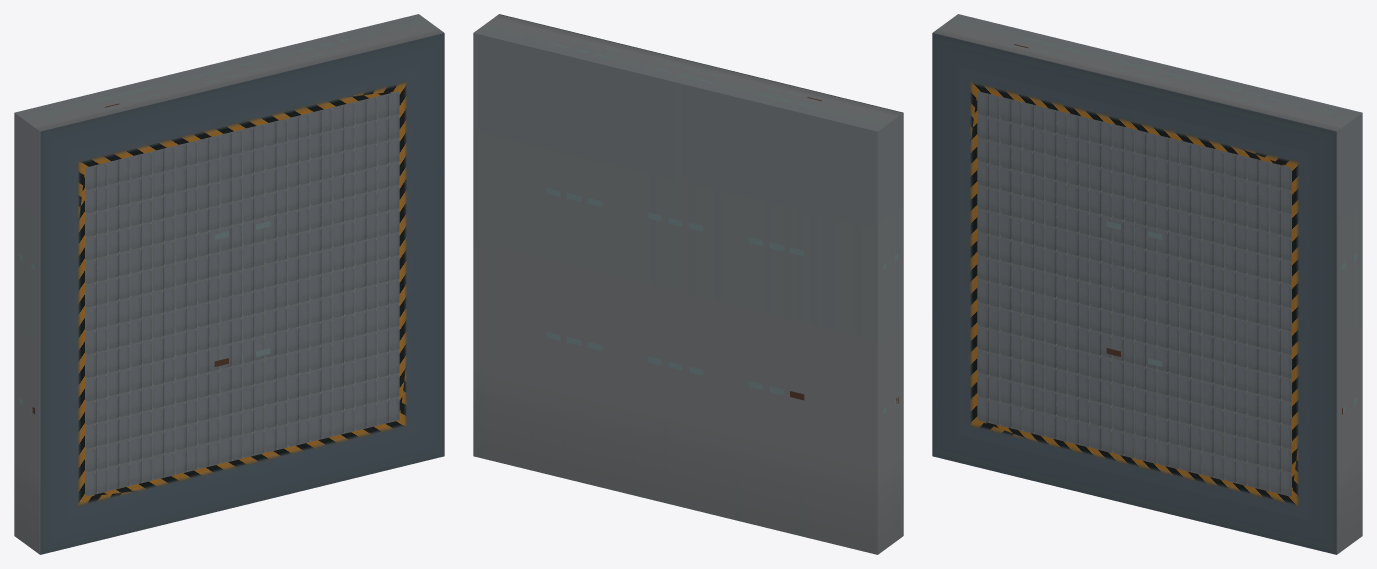
File: kit_cap.glb
3 views of the same model, side by side, from view 1: azimuth 30°, elevation 25°; view 2: azimuth 150°, elevation 25°; view 3: azimuth 330°, elevation 25° (orthographic).
Visible parts, largest first — view 1: lod0; view 2: lod0; view 3: lod0.
Boxes of the visible parts, <box> form: lod0: <box>14,14,444,554</box>; lod0: <box>473,14,903,554</box>; lod0: <box>932,14,1362,554</box>.
Size of what is drawn, in the model's own units: 90.07 by 90.07 by 10.07.
Materials: 1 (1 with a texture image).
